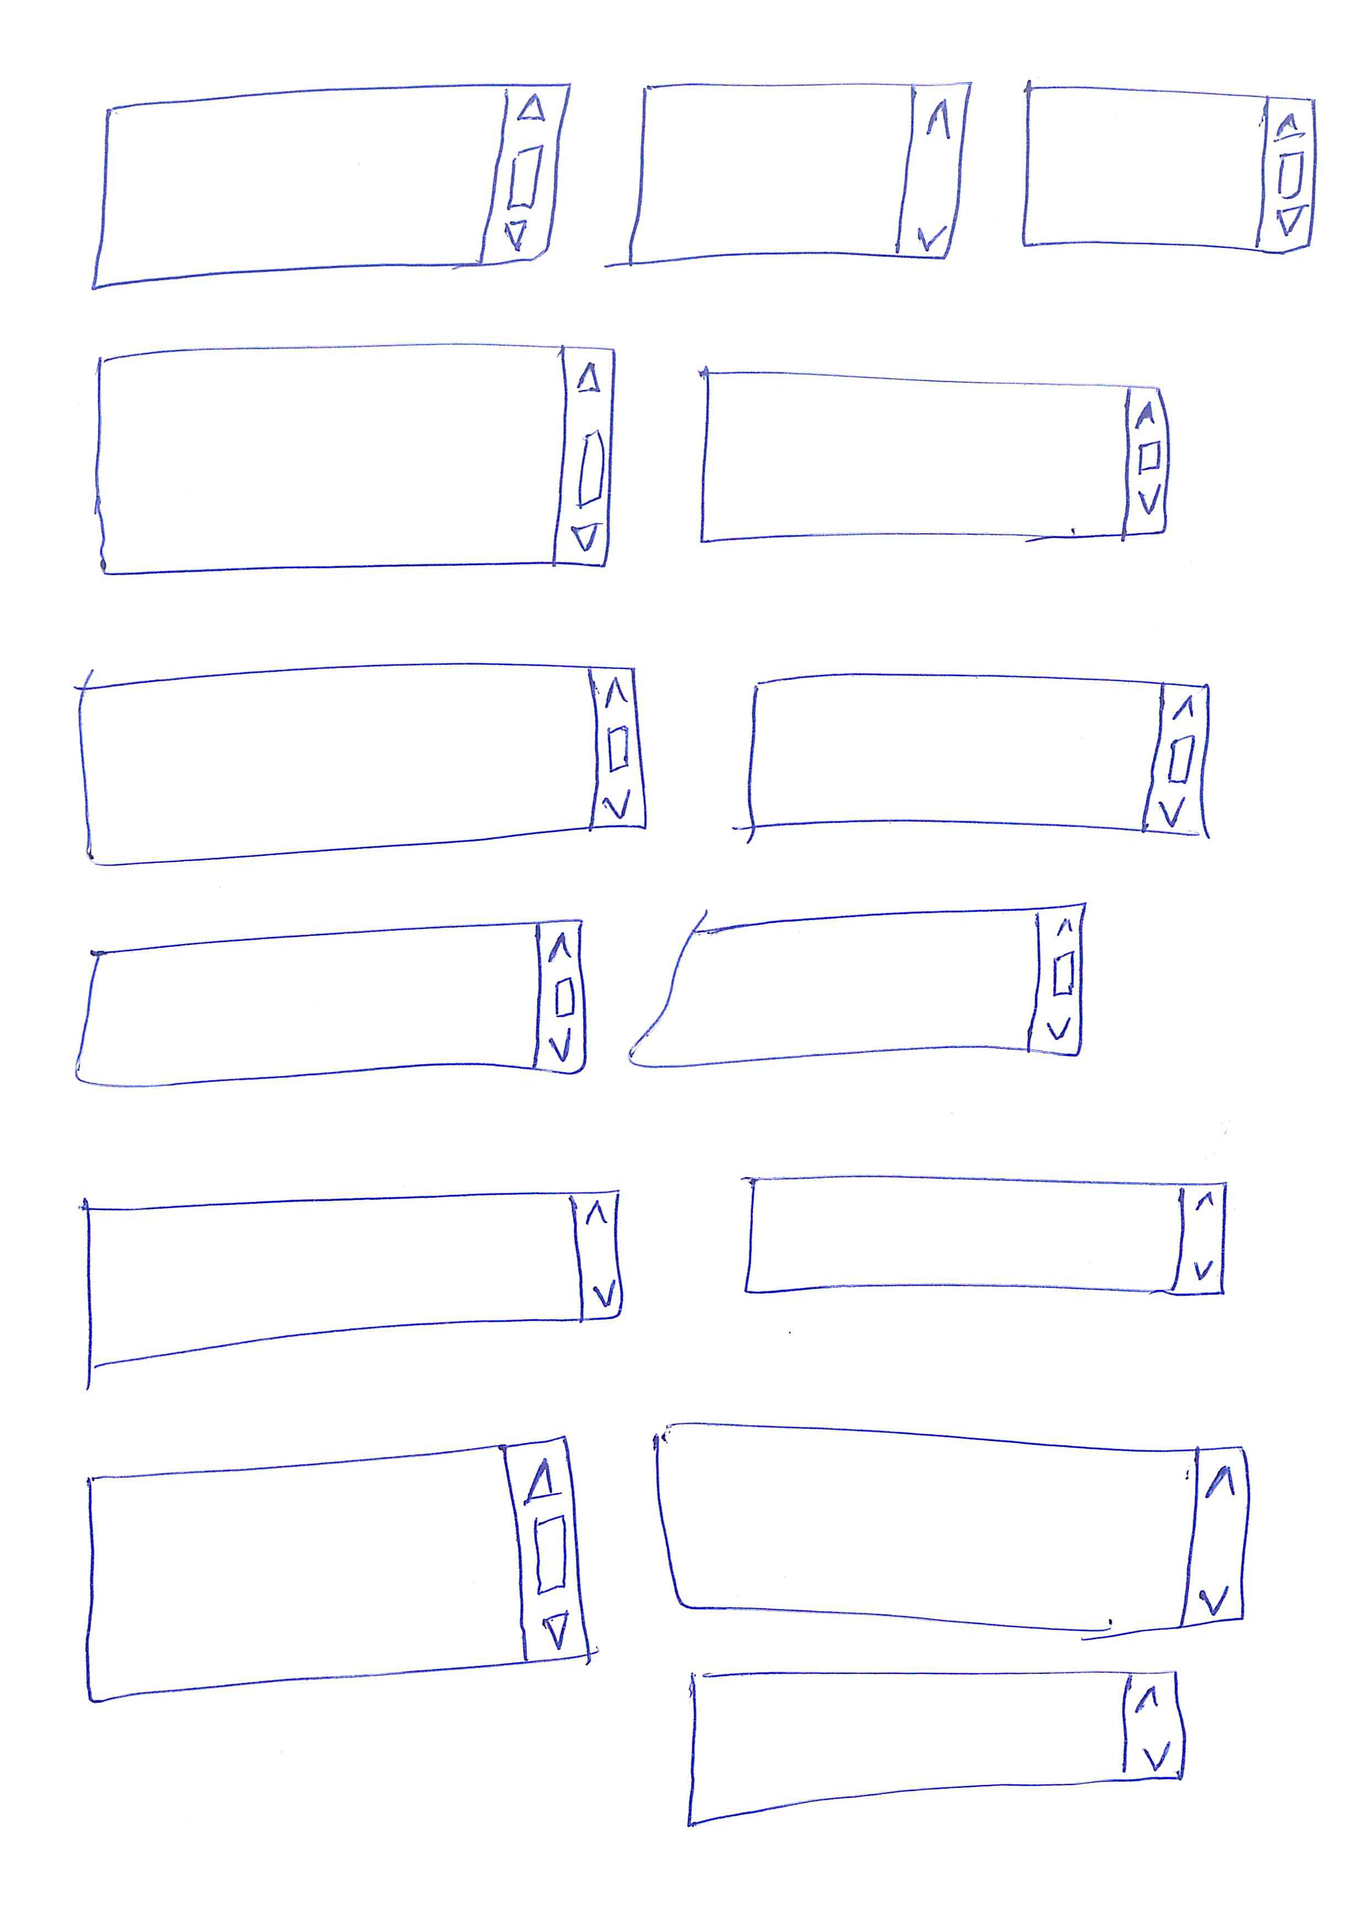Textarea: (78, 1434, 596, 1708), (650, 1421, 1254, 1641), (92, 339, 619, 581), (74, 656, 650, 872), (87, 77, 577, 296), (81, 1187, 622, 1374), (69, 914, 591, 1091), (693, 367, 1172, 546), (684, 1669, 1189, 1832), (625, 899, 1090, 1072), (744, 668, 1217, 835), (624, 75, 974, 272), (739, 1175, 1231, 1300), (1019, 78, 1322, 257)
